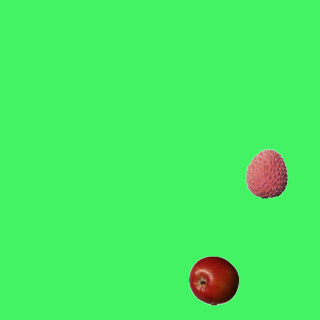Apple Braeburn: (188, 255, 238, 305)
Lychee: (241, 148, 291, 198)
